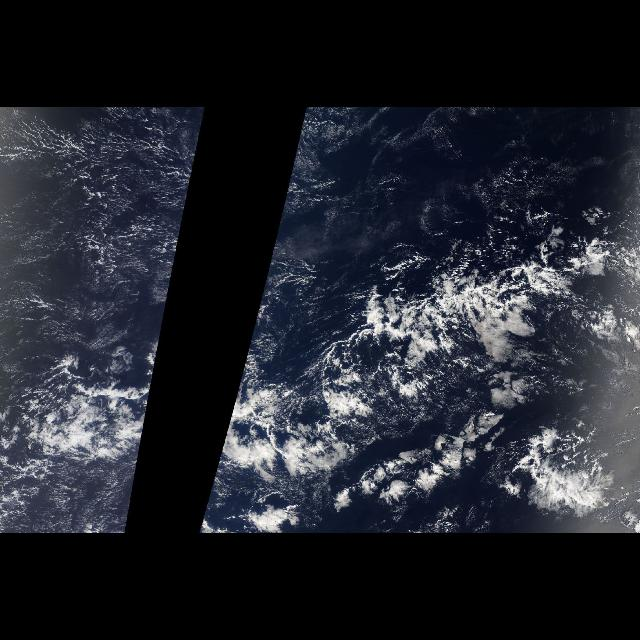Fish: (212, 204, 632, 526), (21, 370, 156, 480)
Flower: (304, 366, 566, 492)
Sugar: (1, 108, 206, 362), (273, 107, 469, 240)
